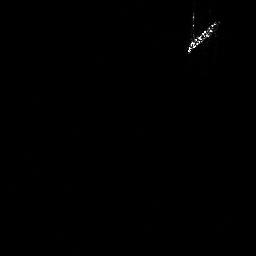ship: (184, 17, 223, 57)
